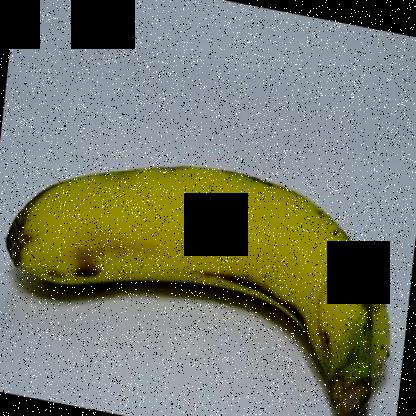freshripe: (0, 140, 406, 415)
